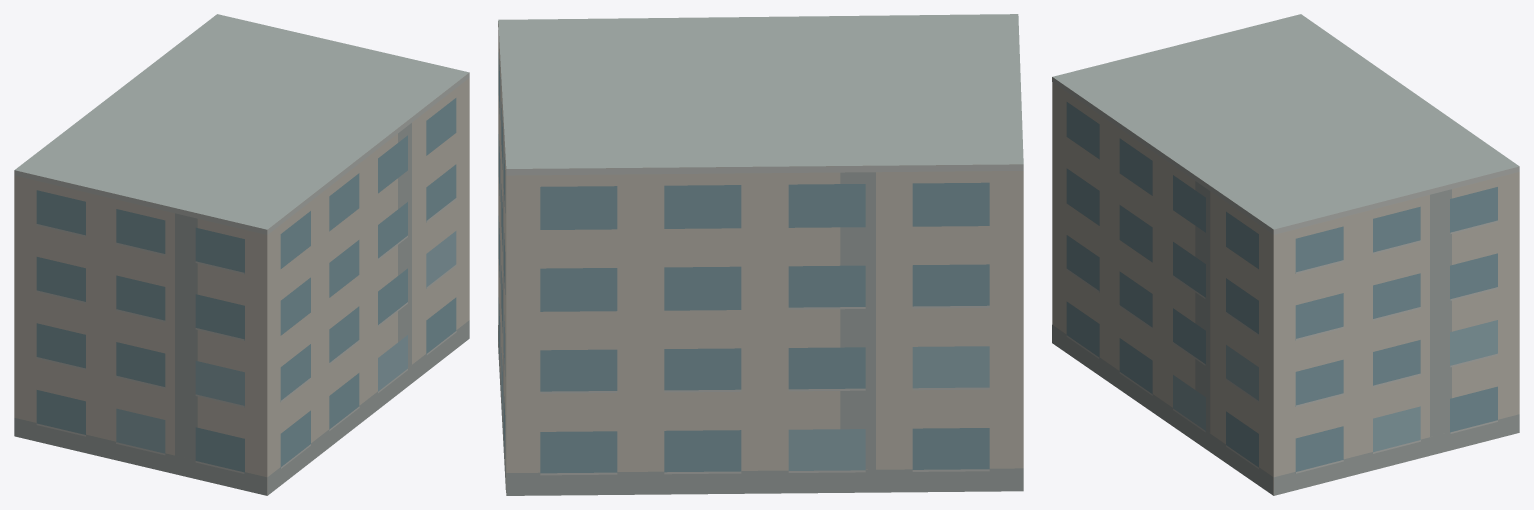
Rendered from survey-upis-32677334.glb.
3 views of the same model, side by side, from view 1: azimuth 30°, elevation 25°; view 2: azimuth 150°, elevation 25°; view 3: azimuth 270°, elevation 25° (orthographic). The views are drawn at different scales.
Visible parts, largest first — view 1: survey-upis-32677334.tmp; view 2: survey-upis-32677334.tmp; view 3: survey-upis-32677334.tmp.
Part boxes in pixels (left/top/right/bottom): survey-upis-32677334.tmp: left=14, top=14, right=469, bottom=495; survey-upis-32677334.tmp: left=498, top=14, right=1023, bottom=495; survey-upis-32677334.tmp: left=1052, top=14, right=1519, bottom=495.
Size of the model in its own units: 21.19 by 12.2 by 19.42.
